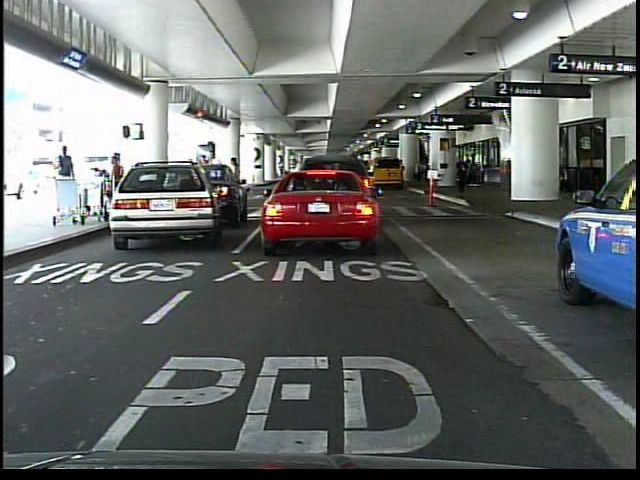person: (57, 144, 80, 216), (206, 146, 224, 223), (284, 152, 303, 205), (197, 153, 215, 204), (457, 154, 471, 193), (417, 154, 428, 187)
